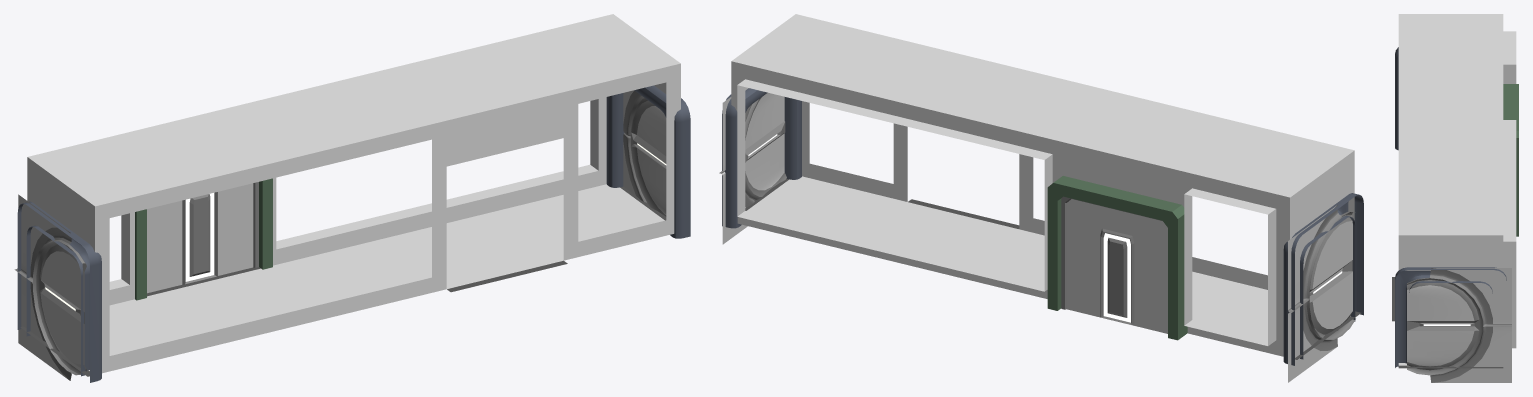
File: Hall_02_Group.fbx
3 renders of one model, left to right at view 1: azimuth 30°, elevation 25°; view 2: azimuth 150°, elevation 25°; view 3: azimuth 270°, elevation 25°, orthographic. The views are drawn at different scales.
Visible parts, largest first — view 1: Hall_01_Walls_Level_02, Hall_02, Hall_Door, Door_Frame (×2), Door_01 (×2), Hall_Door_Frame, Door_03 (×2), Door_02; view 2: Hall_01_Walls_Level_02, Hall_02, Hall_Door, Door_01 (×2), Door_Frame (×2), Hall_Door_Frame, Door_03 (×2), Door_02; view 3: Hall_01_Walls_Level_02, Door_01, Door_02, Door_03, Door_Frame (×2), Hall_Door_Frame, Hall_02.
Boxes of the visible parts, left/top/right/bottom form: Hall_01_Walls_Level_02: left=27, top=14, right=680, bottom=373; Hall_02: left=20, top=184, right=666, bottom=376; Hall_Door: left=147, top=182, right=258, bottom=293; Door_Frame (×2): left=17, top=85, right=690, bottom=382; Door_01 (×2): left=33, top=98, right=666, bottom=375; Hall_Door_Frame: left=135, top=178, right=272, bottom=300; Door_03 (×2): left=14, top=133, right=646, bottom=380; Door_02: left=15, top=194, right=71, bottom=282; Hall_01_Walls_Level_02: left=731, top=14, right=1354, bottom=356; Hall_02: left=745, top=176, right=1360, bottom=359; Hall_Door: left=1061, top=196, right=1167, bottom=333; Door_01 (×2): left=745, top=92, right=1355, bottom=339; Door_Frame (×2): left=722, top=88, right=1363, bottom=365; Hall_Door_Frame: left=1047, top=176, right=1187, bottom=340; Door_03 (×2): left=720, top=171, right=1341, bottom=382; Door_02: left=1288, top=205, right=1341, bottom=312; Hall_01_Walls_Level_02: left=1398, top=14, right=1516, bottom=348; Door_01: left=1407, top=277, right=1483, bottom=375; Door_02: left=1430, top=268, right=1511, bottom=326; Door_03: left=1430, top=326, right=1511, bottom=382; Door_Frame (×2): left=1395, top=47, right=1506, bottom=367; Hall_Door_Frame: left=1503, top=84, right=1518, bottom=236; Hall_02: left=1392, top=277, right=1503, bottom=368.
Size of the model in its own units: 4101 by 1235 by 970.
